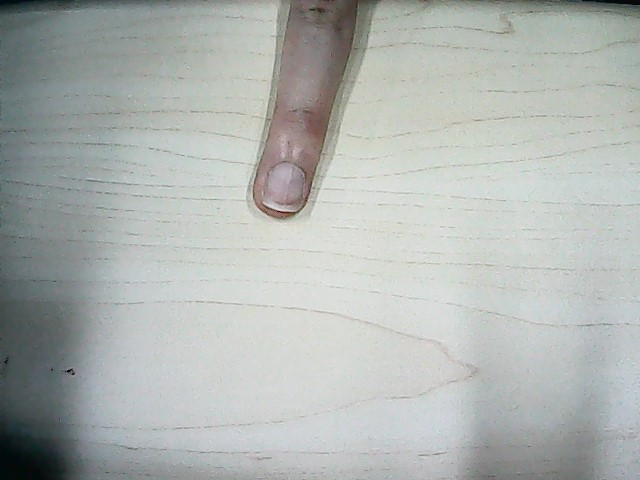nail: (266, 166, 303, 214)
